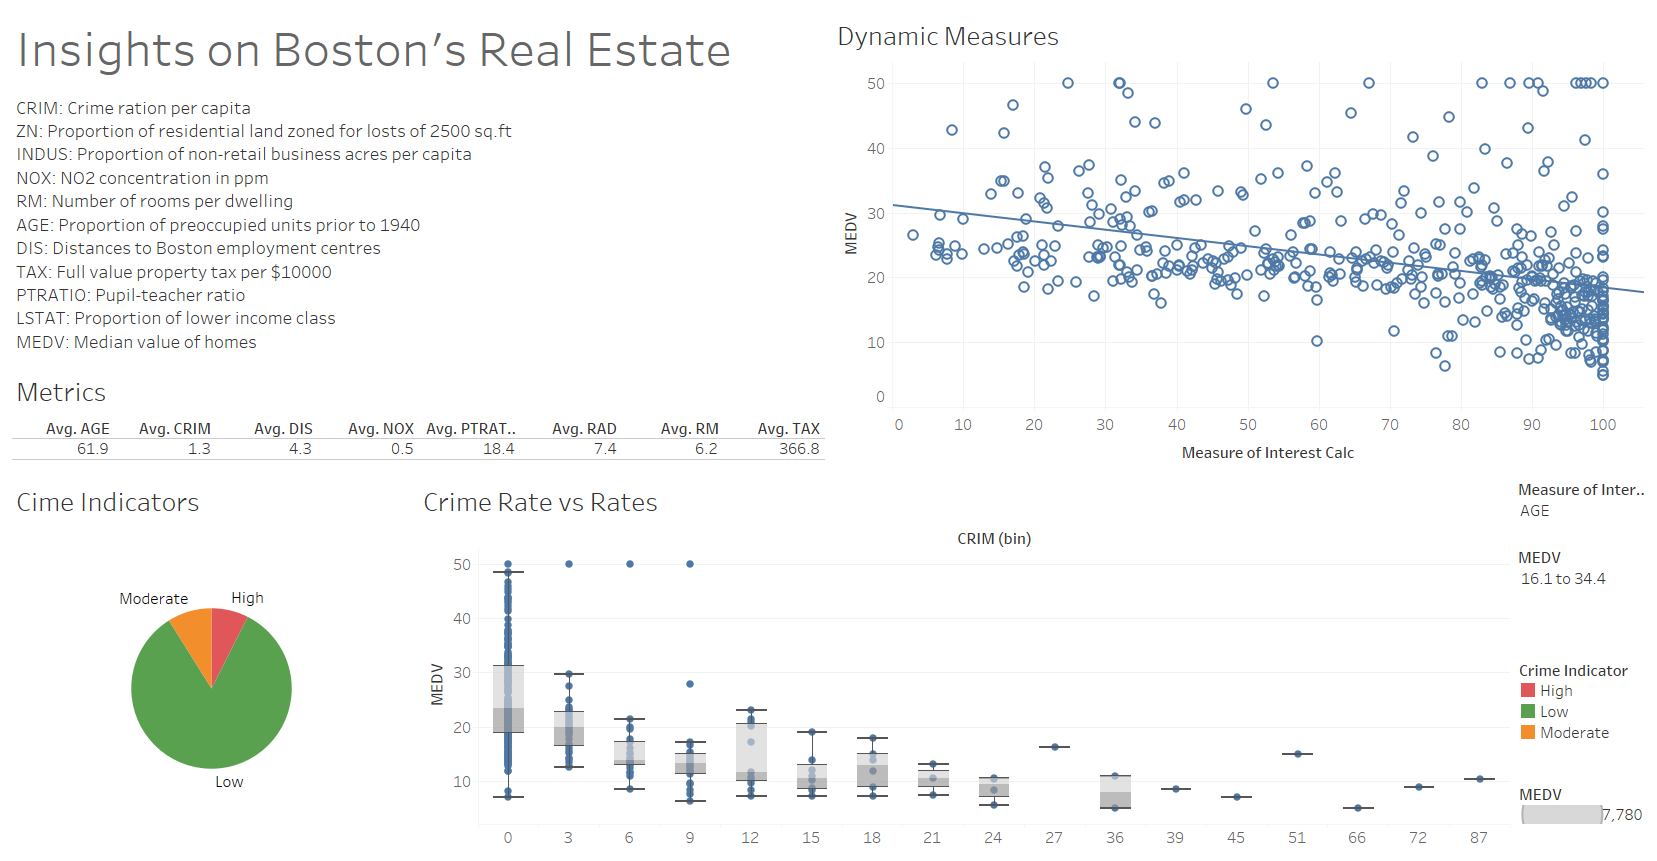

The dashboard page shown, as its layout file describes it:
{"tool":"tableau","page":{"name":"Dashboard","canvas":[1000,1000],"units":"permille","ordinal":0},"visuals":[{"type":"text","box":[4.8,9.3,495.5,89.4]},{"type":"worksheet","title":"Dynamic Measures","mark":"Automatic","rows":["MEDV"],"cols":["Calculation_1203587025277054978"],"box":[500.3,9.3,494.9,541.2]},{"type":"worksheet","title":"Variables","mark":"Automatic","box":[4.8,98.7,495.5,324]},{"type":"worksheet","title":"Metrics","mark":"Automatic","box":[4.8,422.8,495.5,127.8]},{"type":"worksheet","title":"Cime Indicators","mark":"Pie","box":[4.8,550.5,245.4,440.2]},{"type":"worksheet","title":"Crime Rate vs Rates","mark":"Circle","rows":["MEDV"],"cols":["CRIM (bin)"],"box":[250.2,550.5,663.5,440.2]},{"type":"parameter","param":"[Parameters].[Parameter 1]","box":[913.7,550.5,81.5,79]},{"type":"filter","title":"Cime Indicators","param":"[federated.1sezwnb180l7mi15w1l3j1pag57a].[none:MEDV:qk]","box":[913.7,629.5,81.5,130.1]},{"type":"legend","title":"Cime Indicators","param":"[federated.1sezwnb180l7mi15w1l3j1pag57a].[none:Calculation_1203587025283477509:n","box":[913.7,759.6,81.5,144]},{"type":"legend","title":"Cime Indicators","param":"[federated.1sezwnb180l7mi15w1l3j1pag57a].[sum:MEDV:qk]","box":[913.7,903.6,81.5,87.1]}]}

Visuals, with their boxes on the dashboard's canvas, which has no fixed pixel size, in thousandths of its width and height (x1, y1, x2, y2). These are canvas units, not pixel positions in the 1657x861 screenshot, which may show the page scaled, cropped or inside an application window:
text: (left=5, top=9, right=500, bottom=99)
"Dynamic Measures" worksheet: (left=500, top=9, right=995, bottom=550)
"Variables" worksheet: (left=5, top=99, right=500, bottom=423)
"Metrics" worksheet: (left=5, top=423, right=500, bottom=551)
"Cime Indicators" worksheet (Pie marks): (left=5, top=550, right=250, bottom=991)
"Crime Rate vs Rates" worksheet (Circle marks): (left=250, top=550, right=914, bottom=991)
parameter: (left=914, top=550, right=995, bottom=630)
"Cime Indicators" filter: (left=914, top=630, right=995, bottom=760)
"Cime Indicators" legend: (left=914, top=760, right=995, bottom=904)
"Cime Indicators" legend: (left=914, top=904, right=995, bottom=991)
